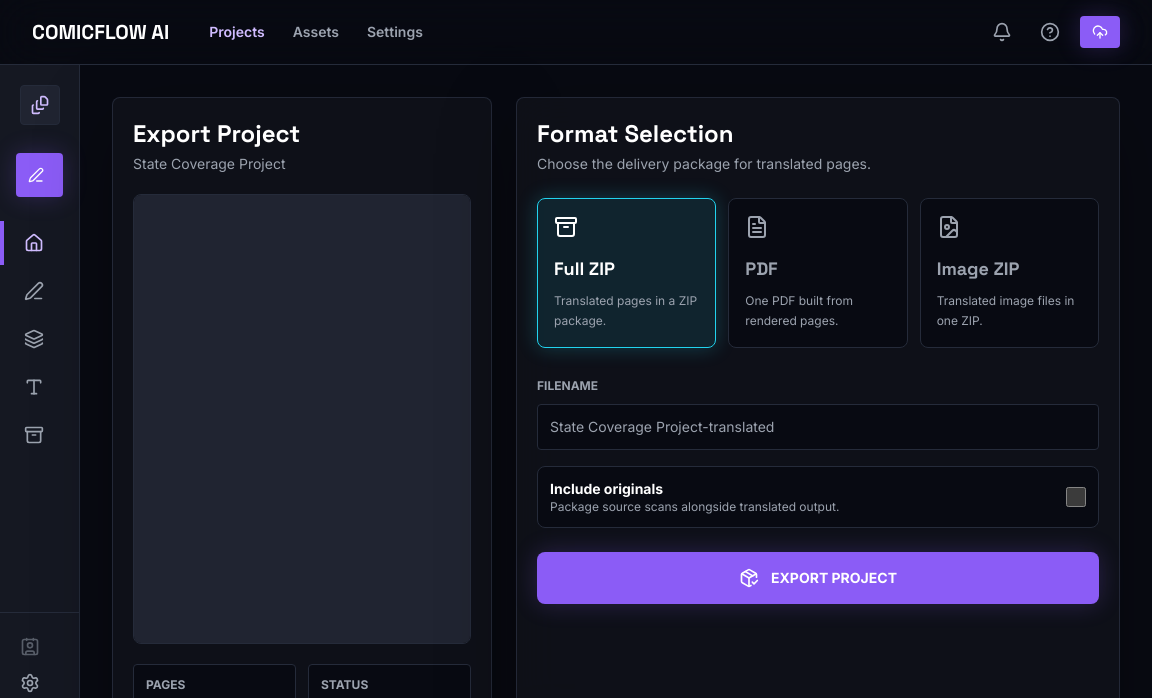
Test: route state coverage › surfaces export failure when no pages are available
The width and height of the screenshot is (1152, 698).
Click the button "Export Project" at (818, 578), box [537,552,1099,604]
(page scrolled)
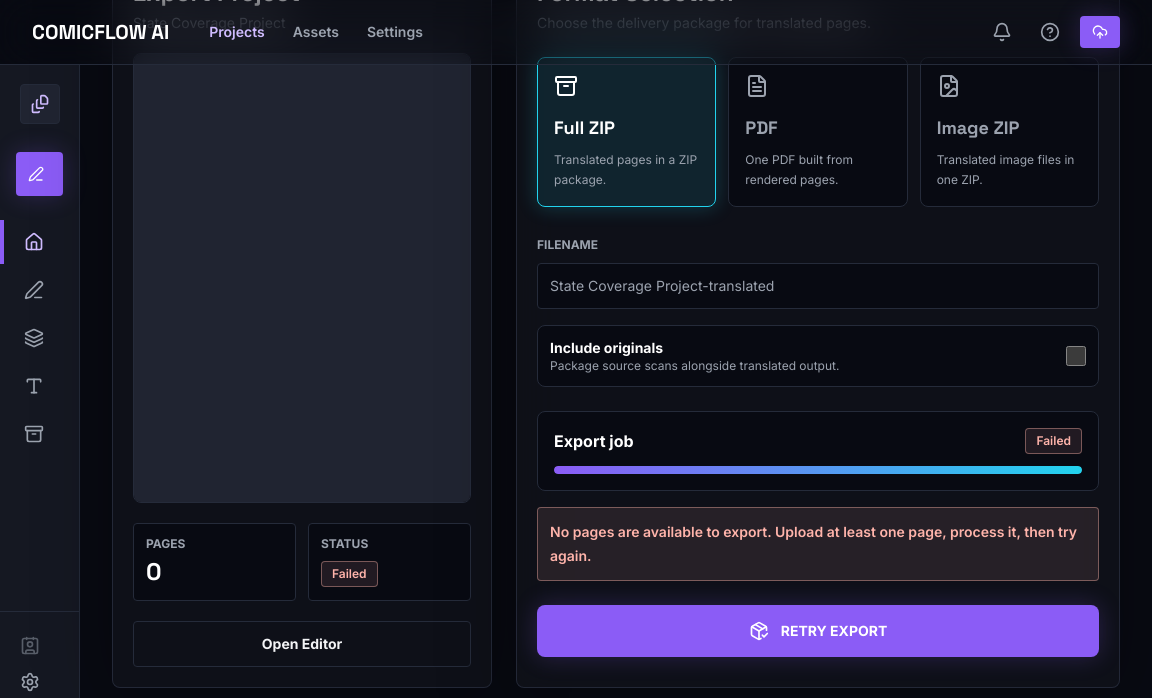
Expected: the message shows "No pages are available to export", [550,523,1077,564]
